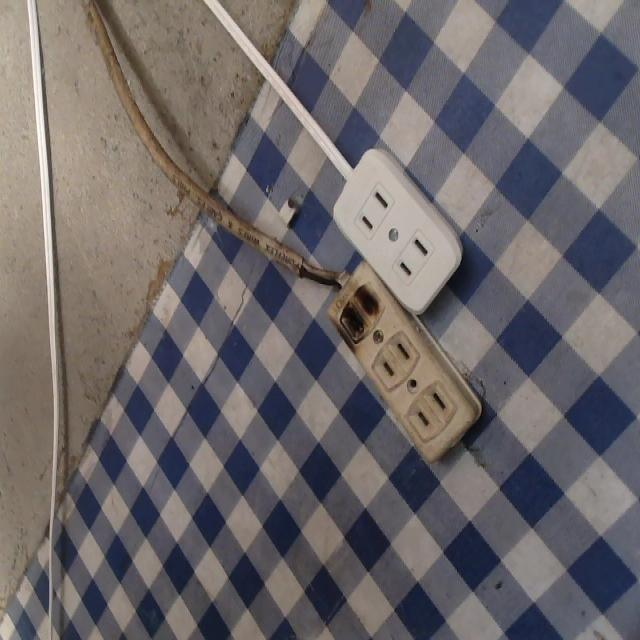-: (321, 275, 392, 348)
